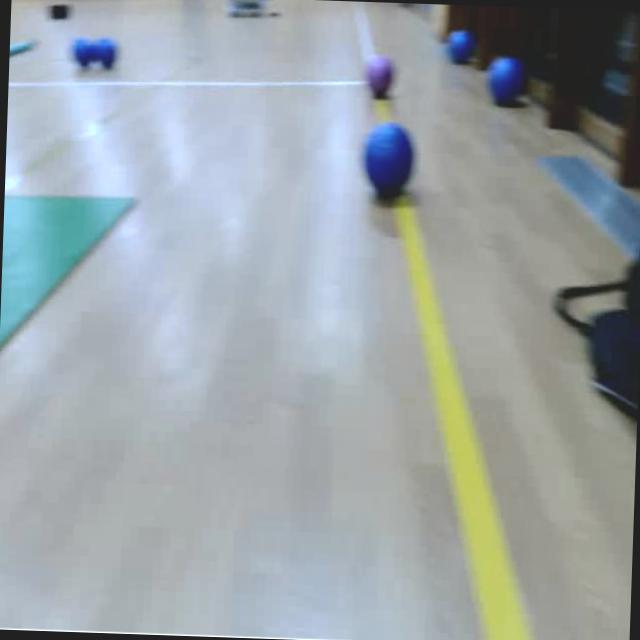blue_ball: (359, 119, 417, 200), (484, 52, 526, 108), (446, 28, 476, 68), (93, 37, 117, 73), (72, 37, 95, 73)
purple_ball: (366, 58, 398, 98)
